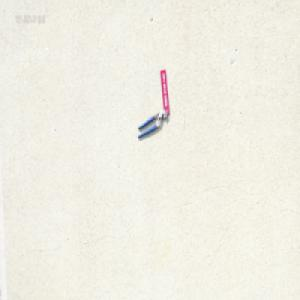Label: (159, 68, 170, 114)
Pliers: (137, 107, 168, 139)
